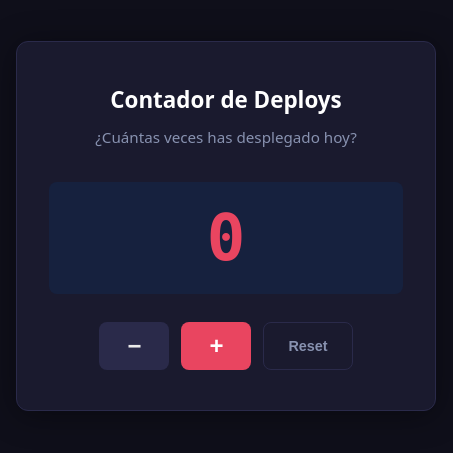
Scenario: Counter component › decrementa el contador al hacer click en el botón −
This screenshot has width=453, height=453.
Note: Primero incrementamos para tener algo que decrementar
Click the button with test id "increment-button": coordinates (216, 346) [181,322,251,370]
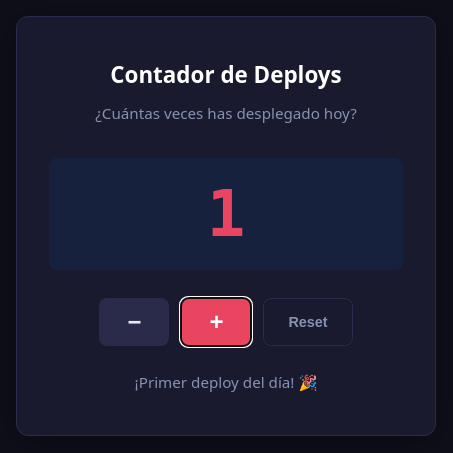
Click the button with test id "increment-button": coordinates (216, 322) [181,298,251,346]
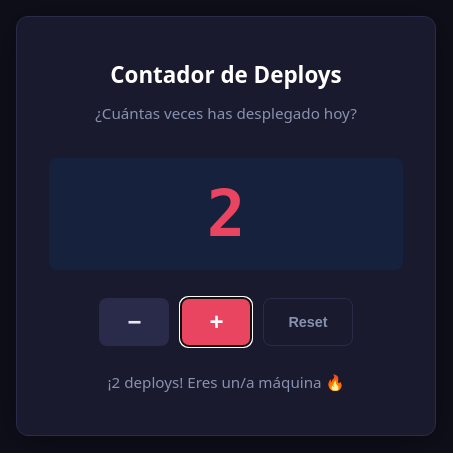
Note: Ahora hacemos click en − (buscamos por aria-label para practicar accesibilidad)
Click the button named "decrementar": coordinates (134, 322) [99,298,169,346]
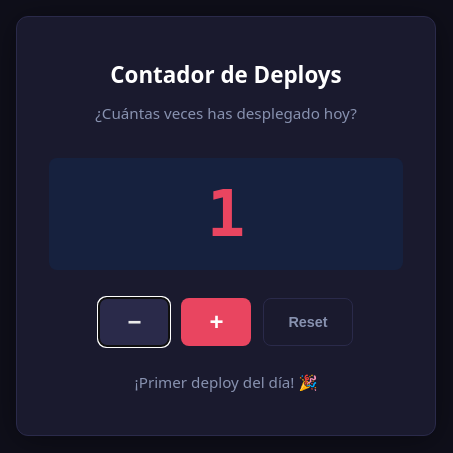
Result: the text with test id "counter-value" reads "1" at [207,176,245,250]
